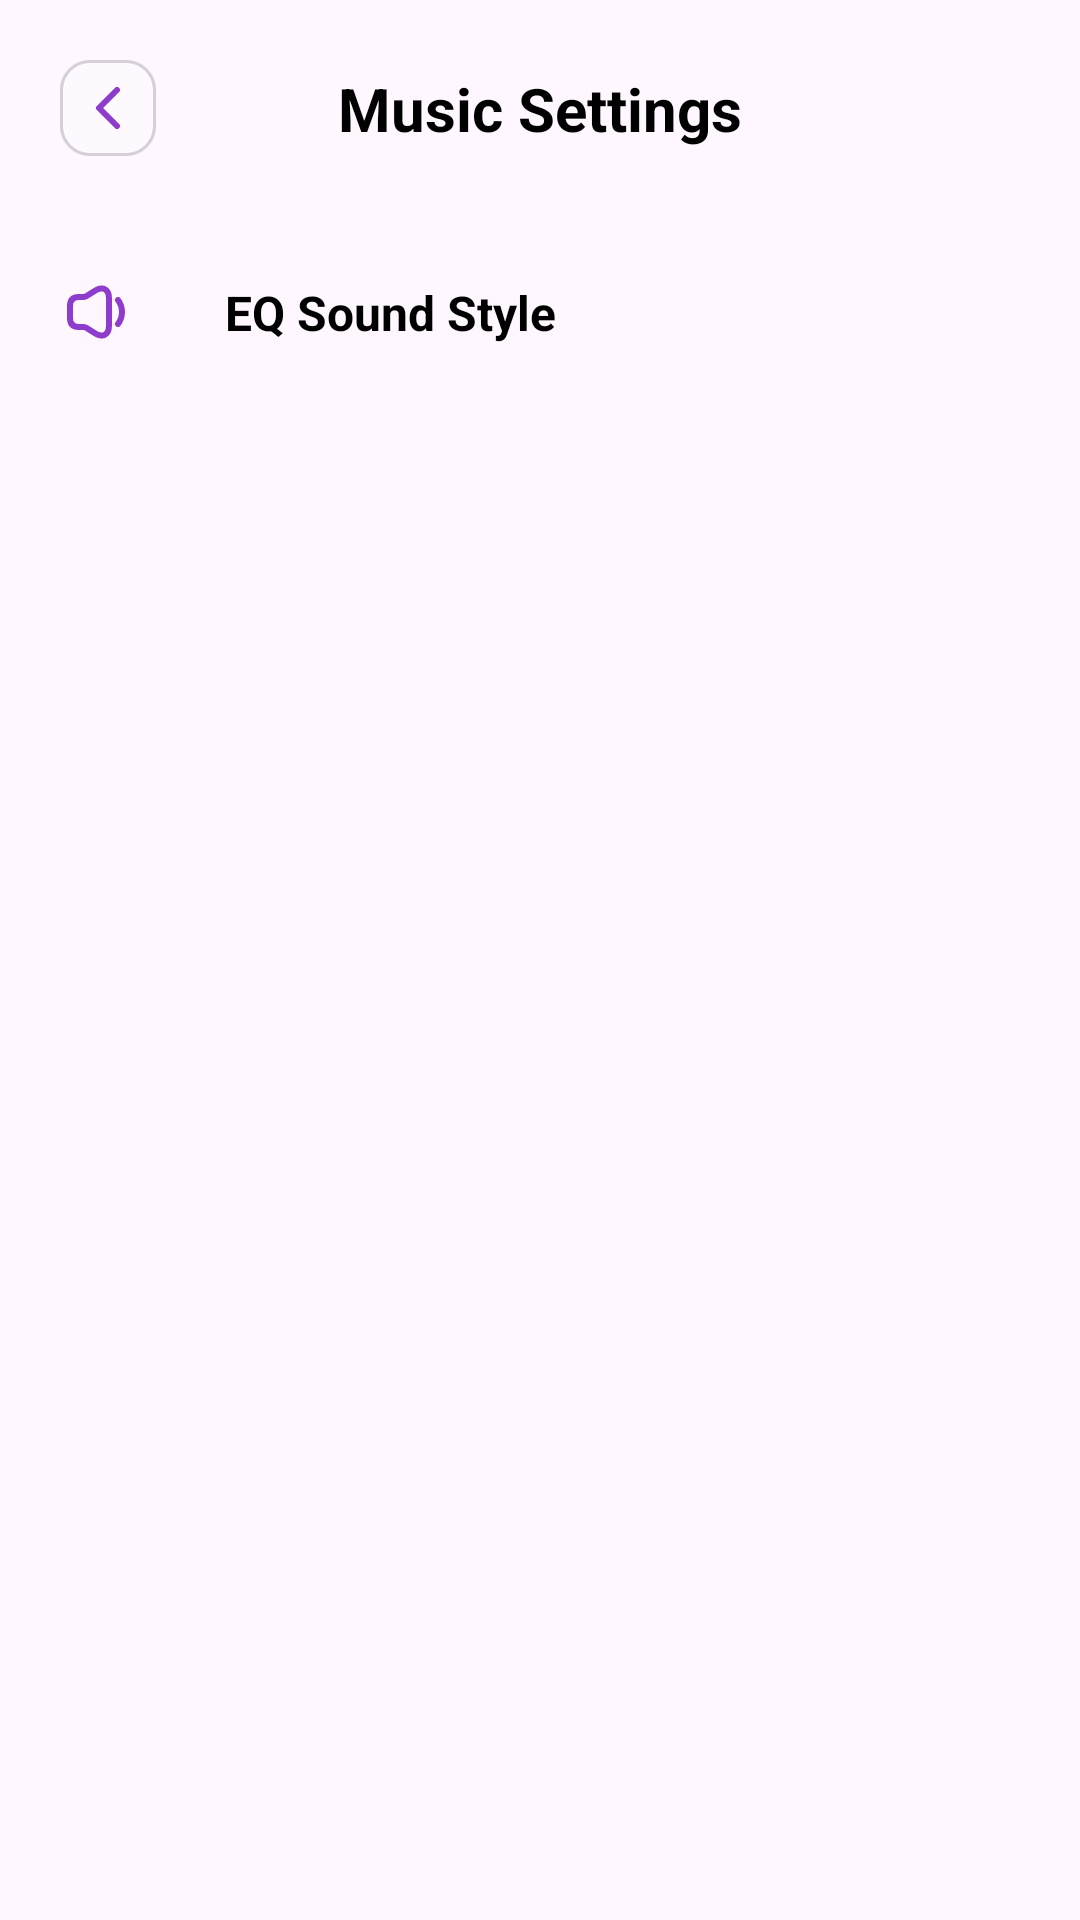

Named icons in this screenshot (1080*1920) and their bounding boxes, [x1, y1, x2, y2]:
back: [60, 60, 156, 156]
